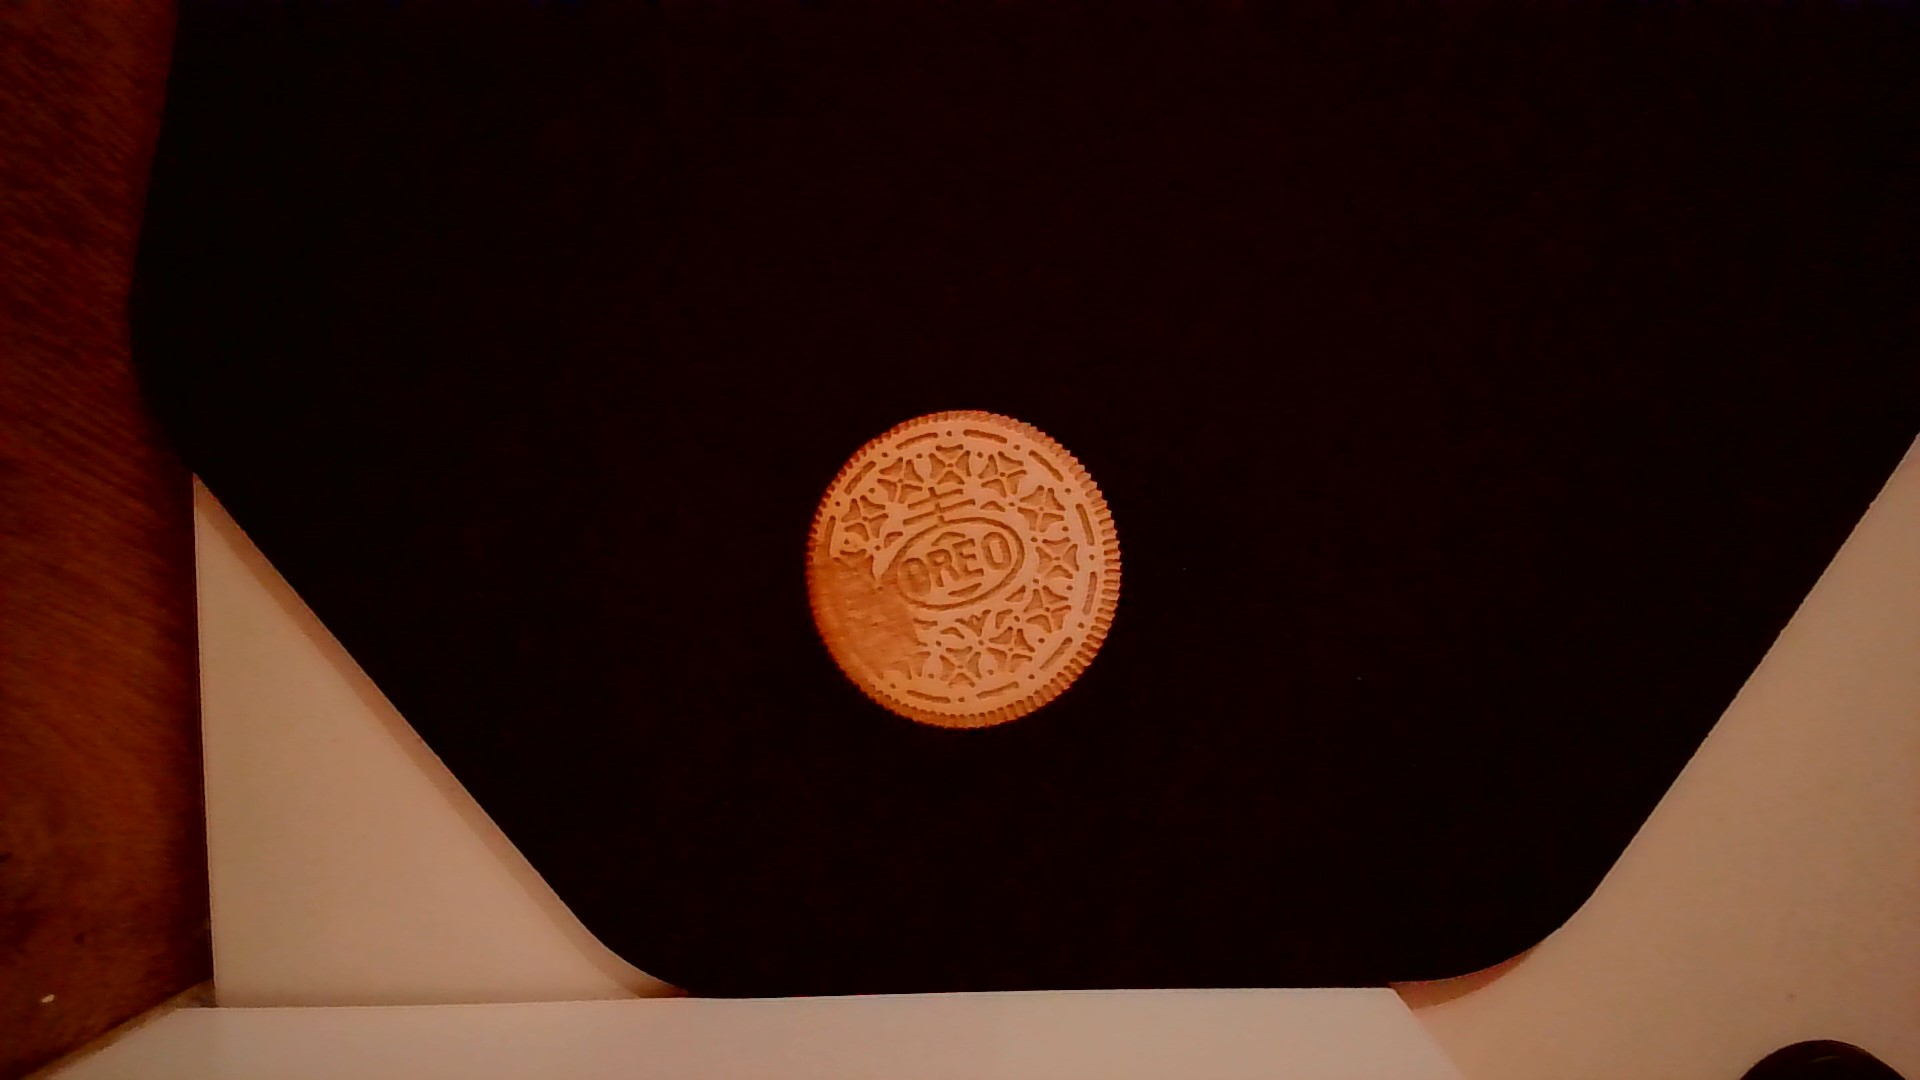Effacé: (796, 556, 923, 684)
Oréo: (793, 404, 1127, 738)
